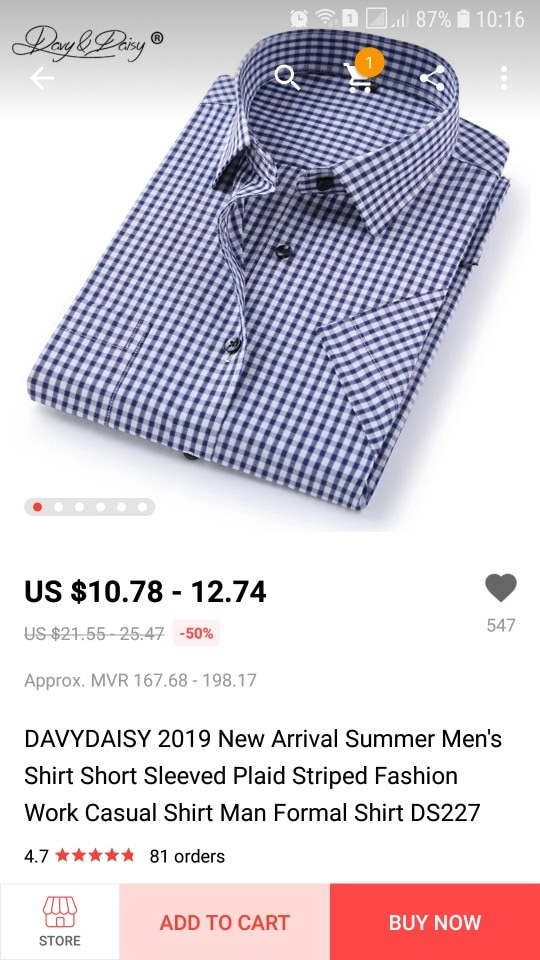shirts: (51, 35, 510, 521)
